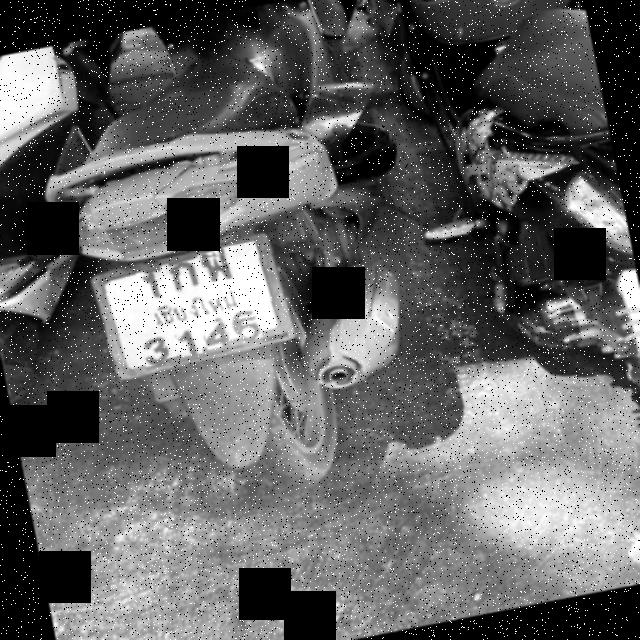letters: (138, 322, 172, 373), (168, 256, 204, 294), (200, 251, 238, 283), (144, 260, 168, 304), (175, 322, 203, 358), (238, 315, 266, 349), (203, 320, 231, 350)
license-plate: (96, 240, 288, 375)
province: (141, 279, 248, 330)
